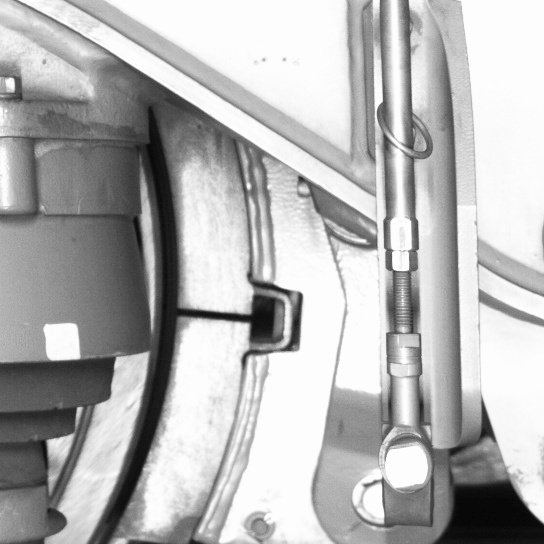KnifeSwitch: (80, 139, 259, 542)
